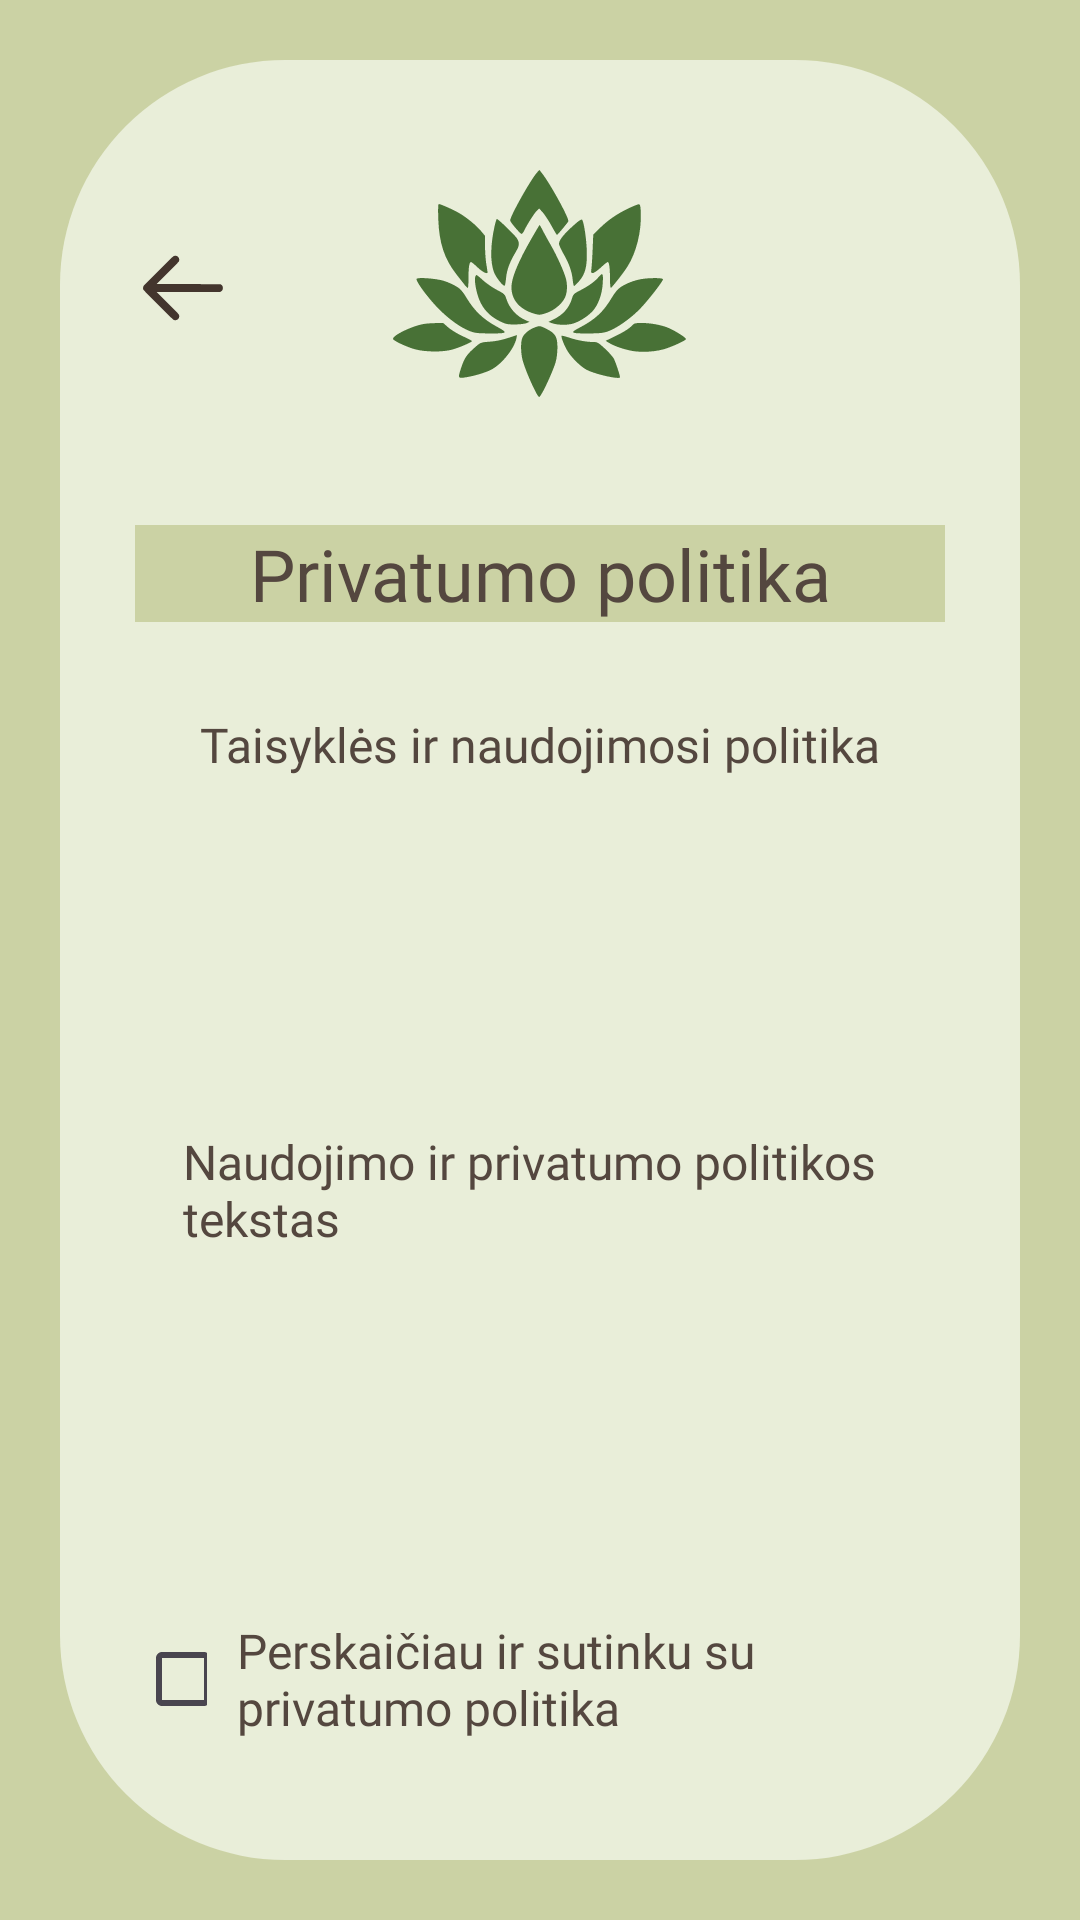

Named icons in this screenshot (1080w x 1920h) and their bounding boxes, (left=x1, top=y1, right=x2, bottom=y2):
Lotus icon: (left=393, top=170, right=686, bottom=397)
